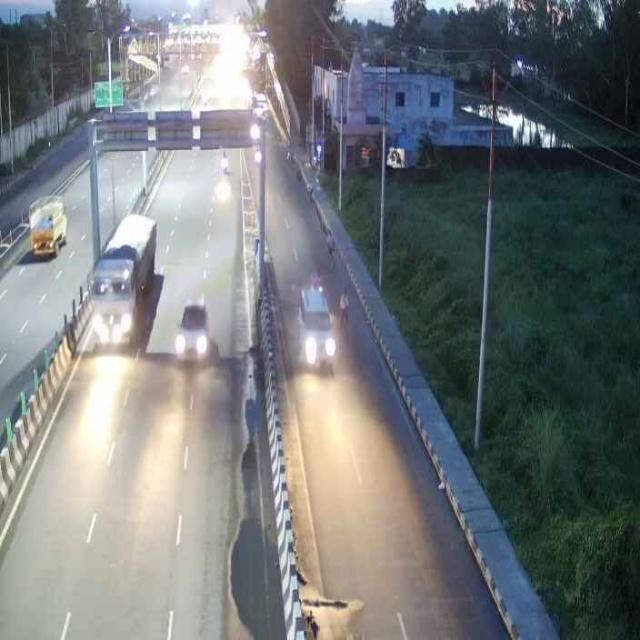car: (293, 279, 339, 374), (24, 194, 68, 262), (173, 295, 213, 362)
